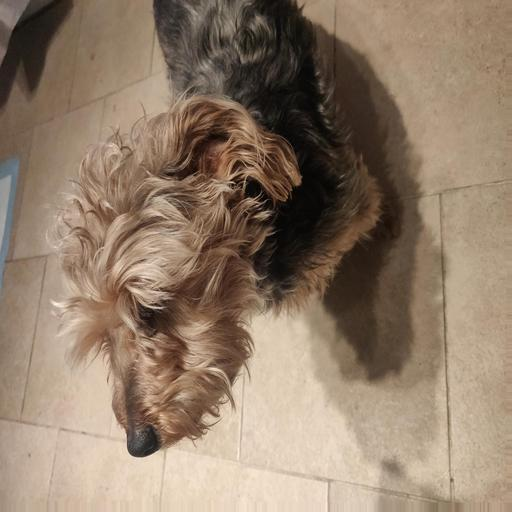dog: (34, 21, 416, 403)
